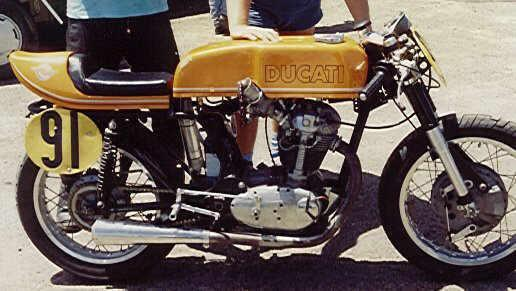motorcycle: (3, 10, 516, 287)
